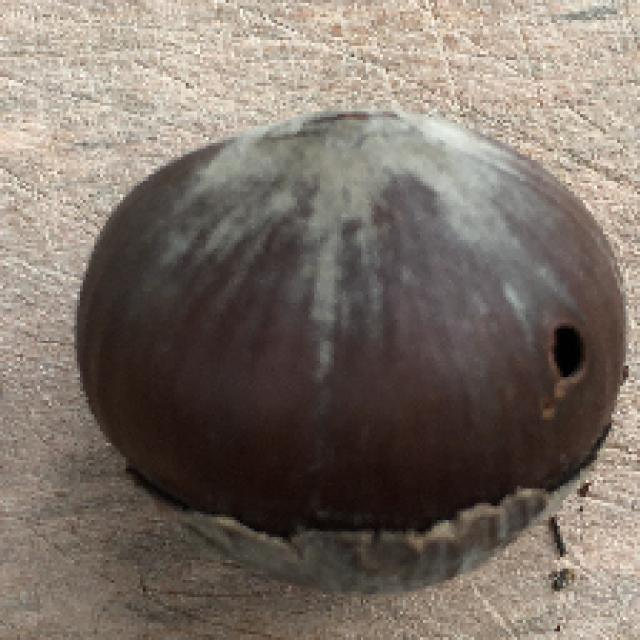damagedHazelnut: (77, 86, 640, 591)
